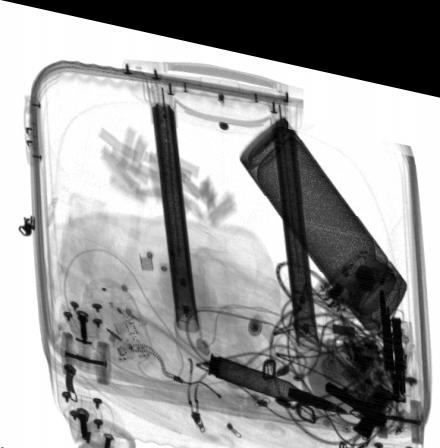Bullet: (208, 343, 351, 400)
Gun: (324, 365, 394, 414)
HandCuffs: (380, 272, 409, 380)
